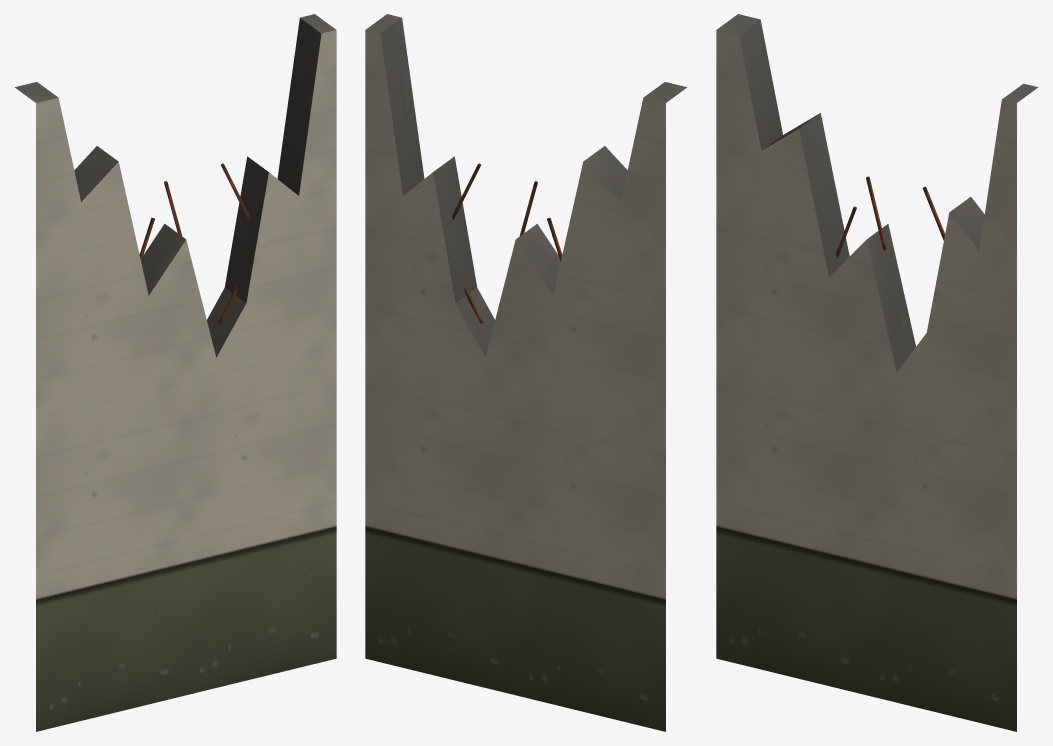
Rendered from wall_bunker_broken.glb.
3 views of the same model, side by side, from view 1: azimuth 30°, elevation 25°; view 2: azimuth 150°, elevation 25°; view 3: azimuth 330°, elevation 25° (orthographic).
Parts seen in each view (by area): view 1: wall_bunker_broken; view 2: wall_bunker_broken; view 3: wall_bunker_broken.
Part boxes in pixels (x1,y1,x2,y2): wall_bunker_broken: (15,14,336,731); wall_bunker_broken: (365,14,686,731); wall_bunker_broken: (716,14,1037,731).
Bounding box in the file's own units: 2 × 4 × 0.25.
1 material, 1 textured.
